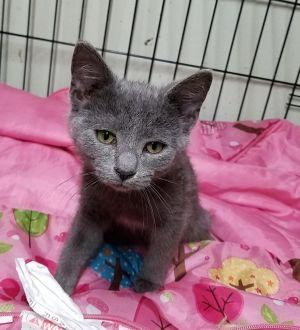rblue: (62, 38, 219, 204)
